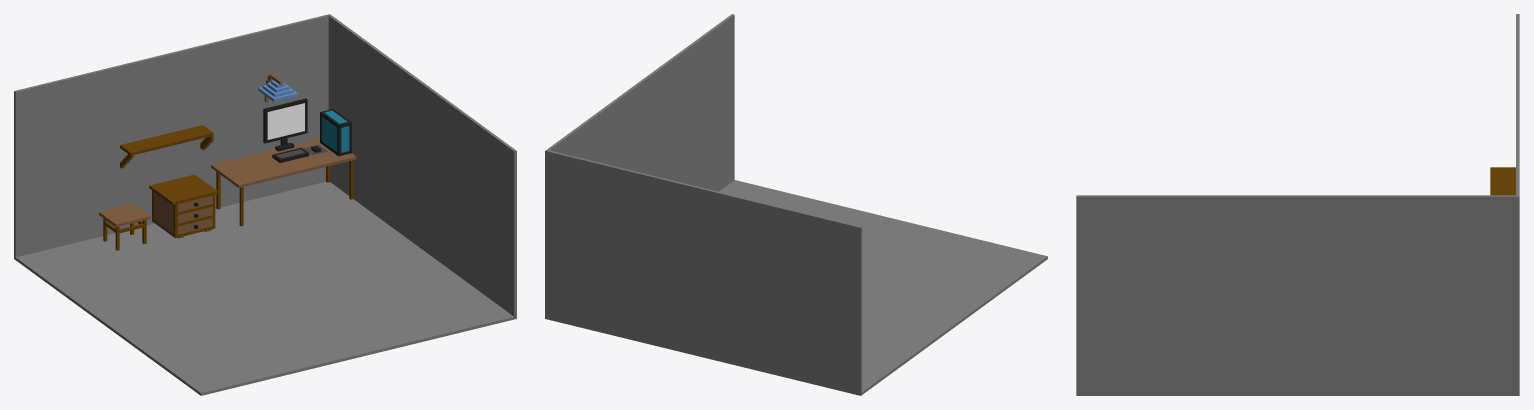
File: SimpleRoom.obj
The picture shows the model from 3 angles, left to right: view 1: azimuth 30°, elevation 25°; view 2: azimuth 150°, elevation 25°; view 3: azimuth 270°, elevation 25°; orthographic projection. The views are drawn at different scales.
Bounding box in the file's own units: 11.8 × 6 × 12.1.
1 material, 1 textured.
